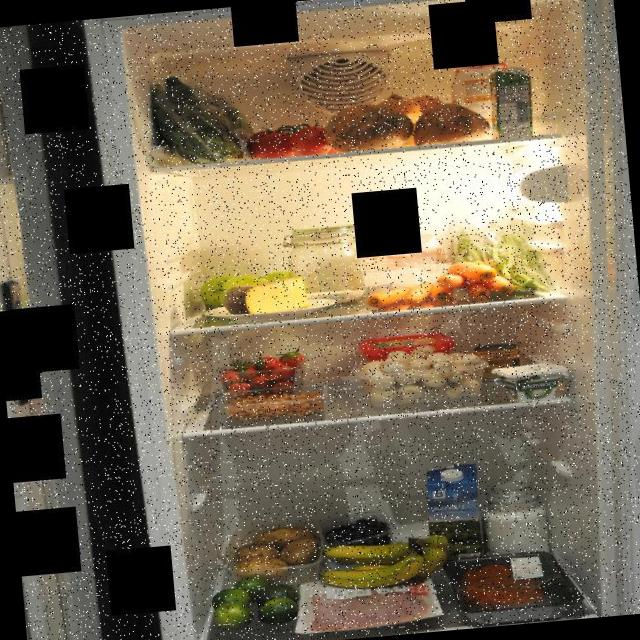Carne cerdo: (305, 574, 435, 632)
Carne vacuno: (454, 554, 558, 612)
Cebolla: (371, 88, 446, 126)
Champiñones: (352, 338, 493, 411)
Gambas/Langostinos: (227, 392, 326, 422)
Leche: (421, 461, 490, 574)
Mantequilla: (354, 328, 456, 367)
Manzana: (198, 269, 304, 312)
Patata: (223, 514, 334, 584)
Plátano: (320, 524, 448, 592)
Queso: (222, 272, 316, 319)
Tomate: (240, 118, 344, 161)
Zanahoria: (432, 255, 518, 308), (364, 280, 436, 310)
